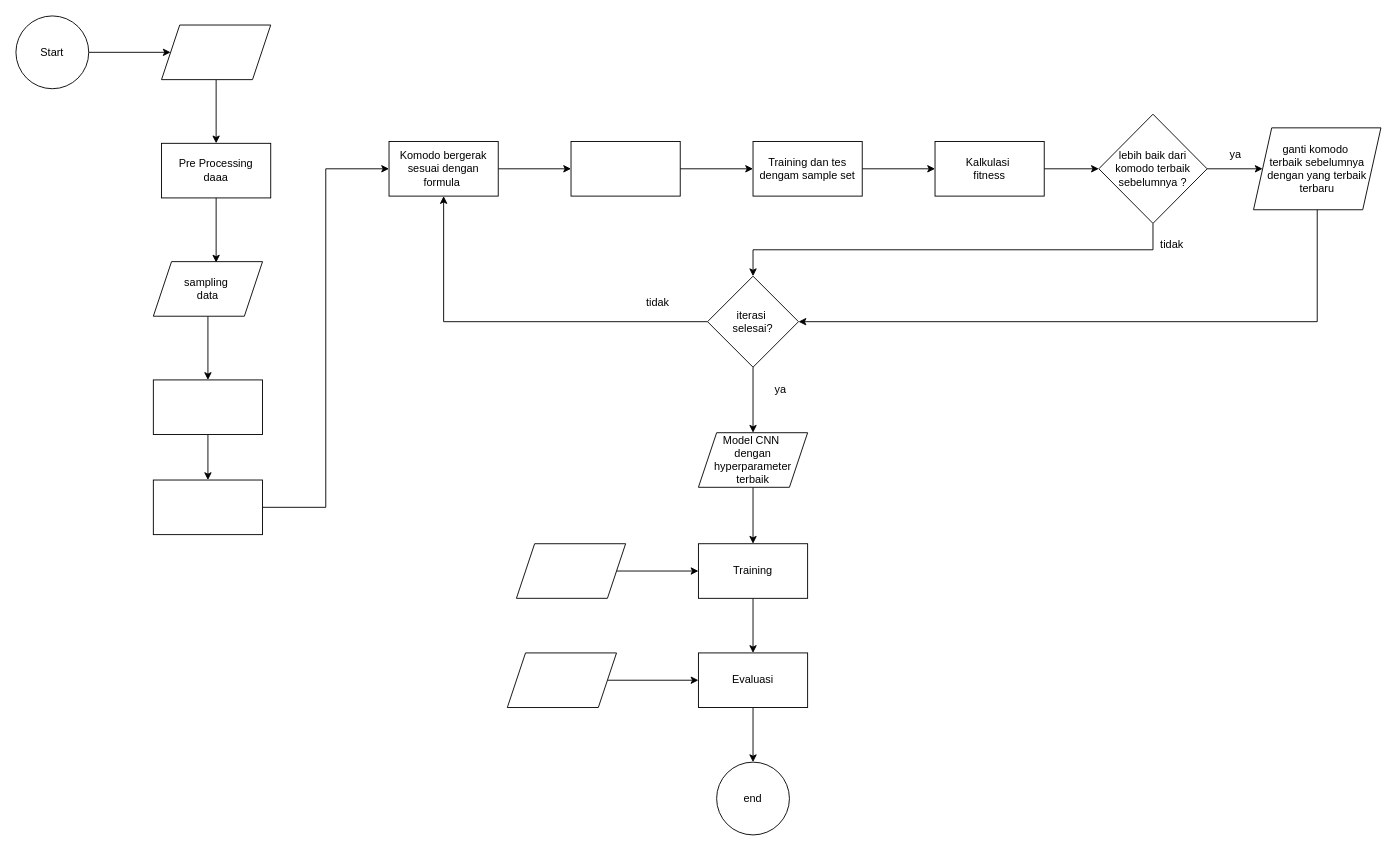
Image size: 1397x851. Some labels were removed from this diagram. The centre of each missing label's shape, as x and y in pixels:
Collecting data: the point at 216,52
Decode komodo lalu implementasikan hyperparameter ke arsitektur CNN: the point at 625,168
Insisialisasi acak Populasi KMA: the point at 207,507
Insisialisasi kontstanta KMA: the point at 207,407
test set: the point at 561,680
Training set: the point at 571,570
